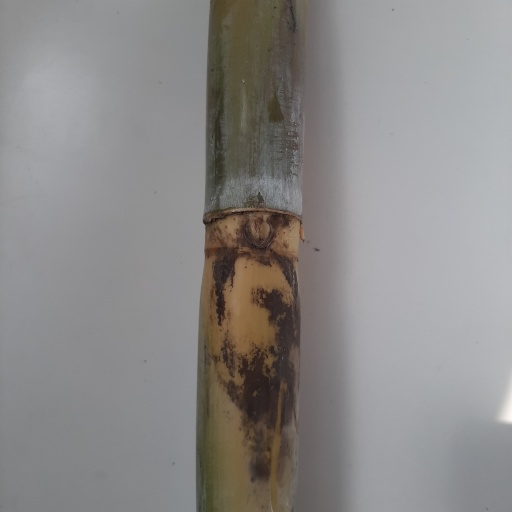Bud: (242, 216, 276, 251)
